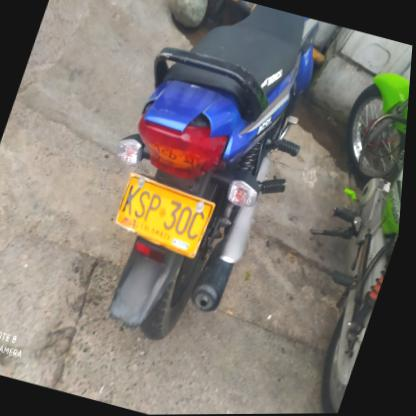placa: (105, 166, 229, 262)
